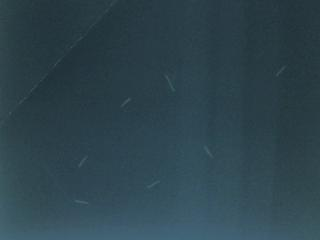crack: (0, 0, 120, 120)
scratch: (159, 70, 180, 95), (199, 139, 217, 164), (72, 153, 93, 172), (271, 61, 290, 82), (116, 94, 134, 112), (143, 177, 162, 192), (71, 196, 92, 208)
